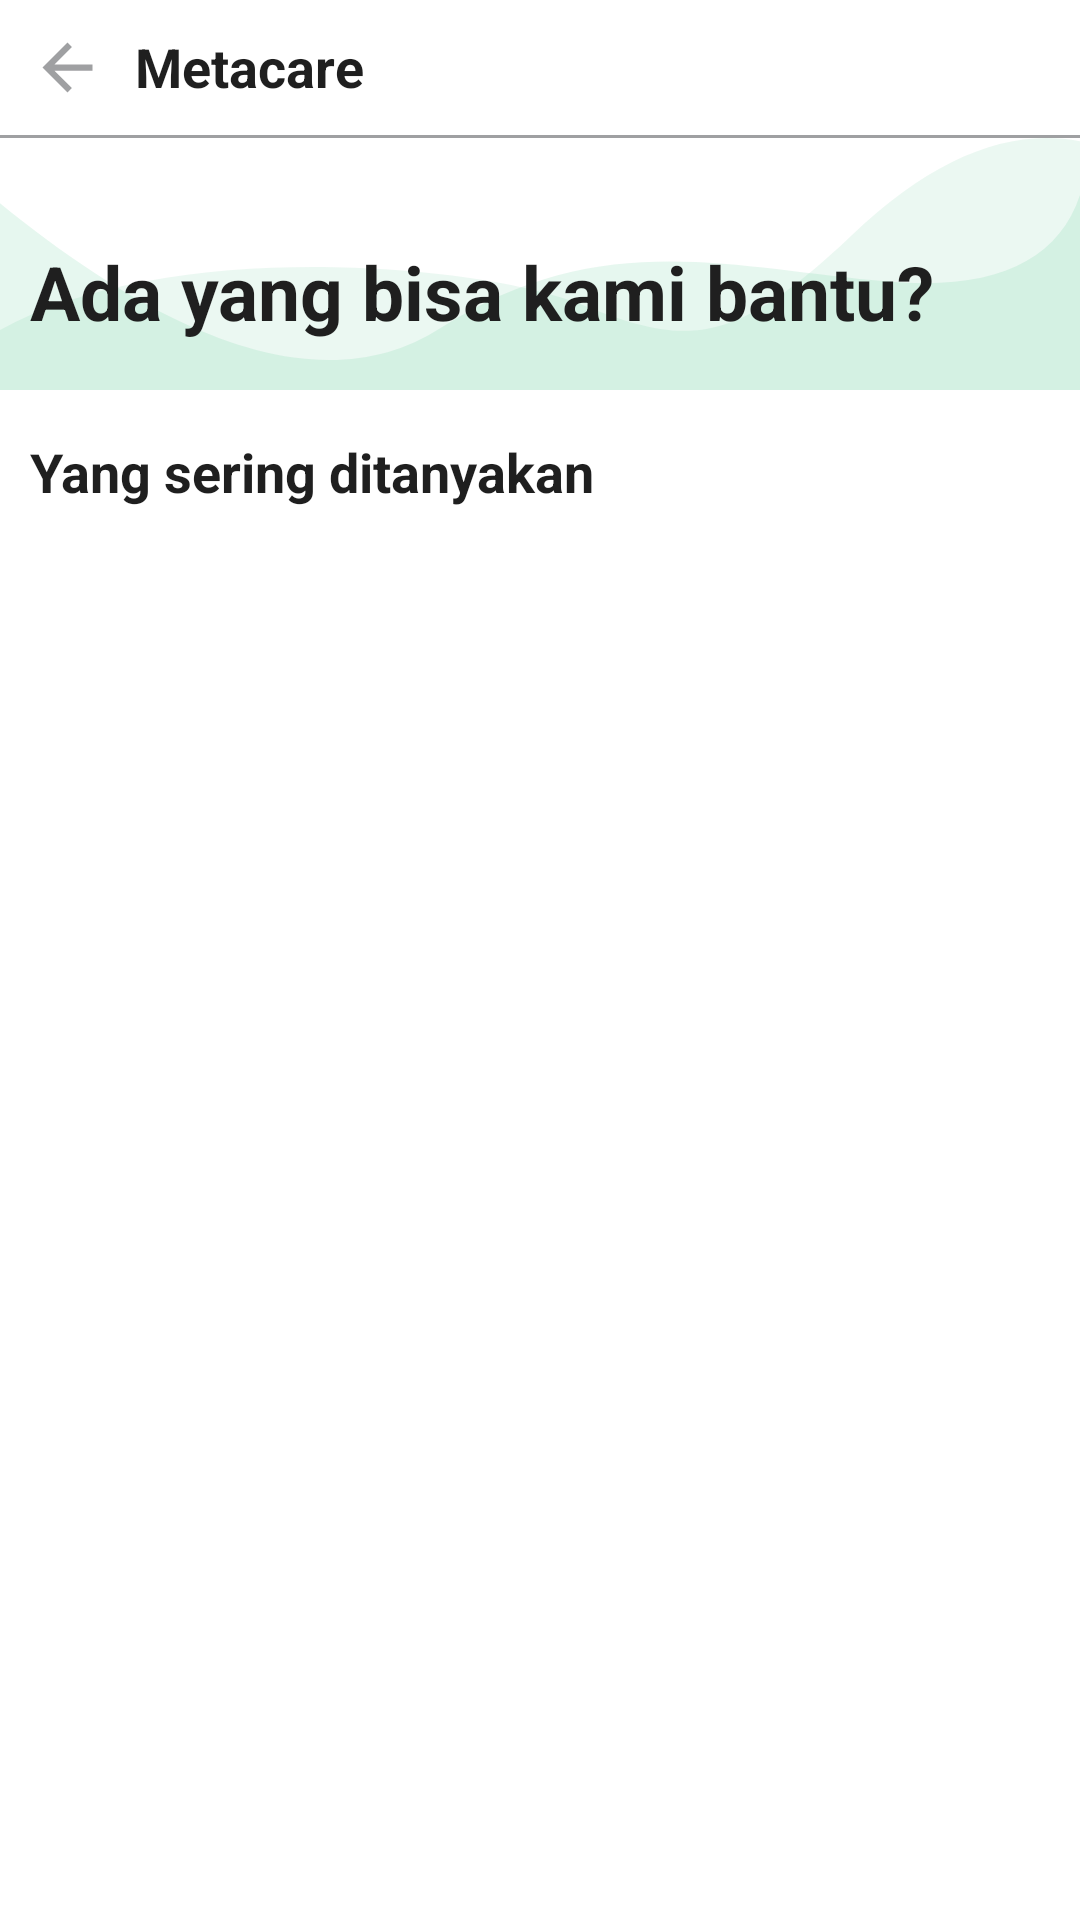

Icon click points for this 1080w x 1920h phone screenshot, format [x,y]:
back: [68,67]
